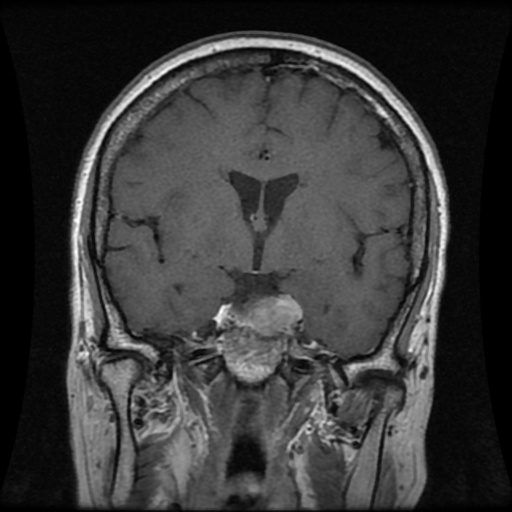pituitary: (215, 294, 299, 333)
